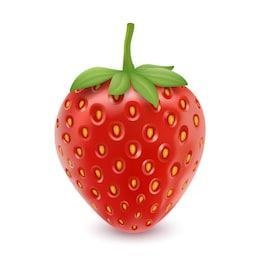Fresa: (49, 65, 216, 240)
